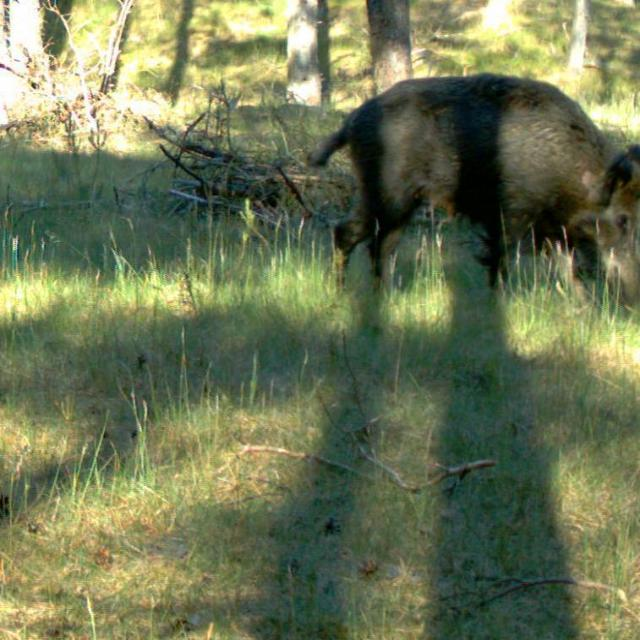pig: (301, 87, 640, 343)
